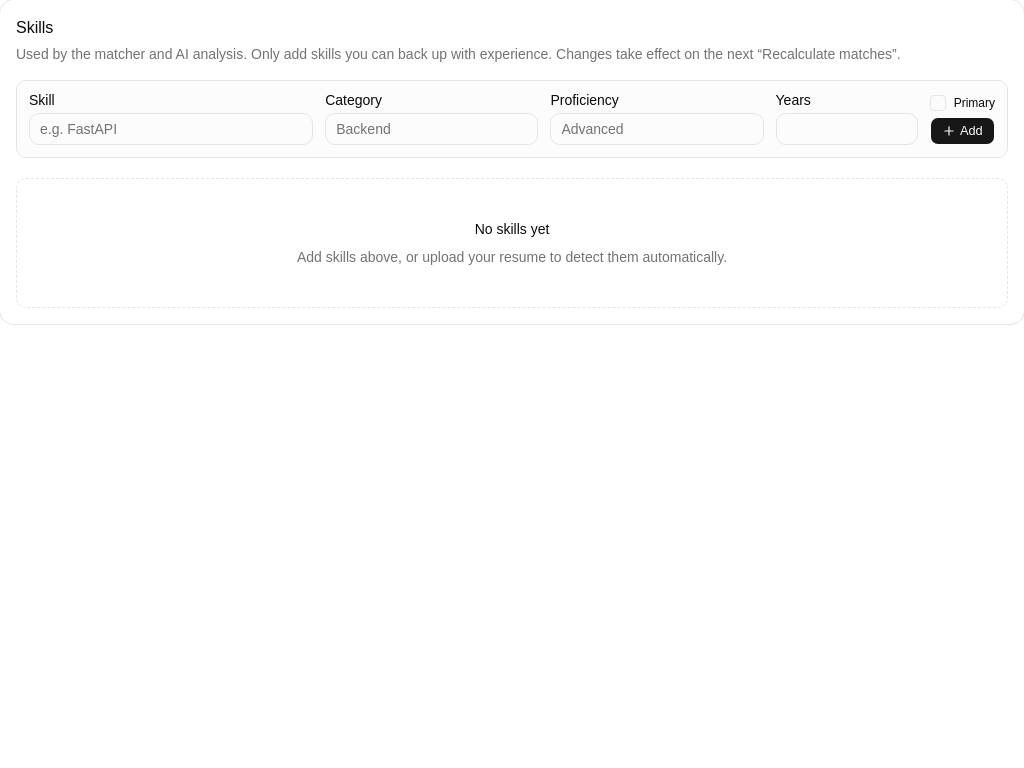
mutation failures › reports a failed skill creation and keeps the input
The width and height of the screenshot is (1024, 768).
Expected: the text "No skills yet" is shown, [475,219,549,239]
Type "Python" into the field labelled "Skill".
click(171, 129); type("Python")  # box [29,113,313,145]
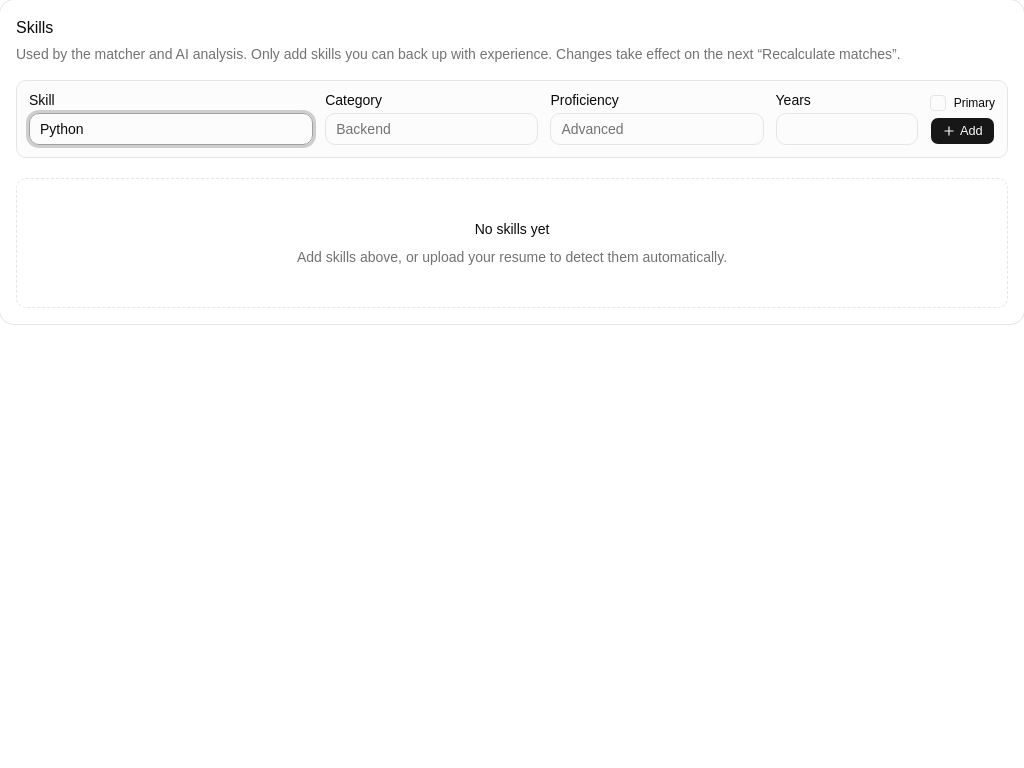
Click the button "Add".
click(962, 131)  # box [930,117,995,145]
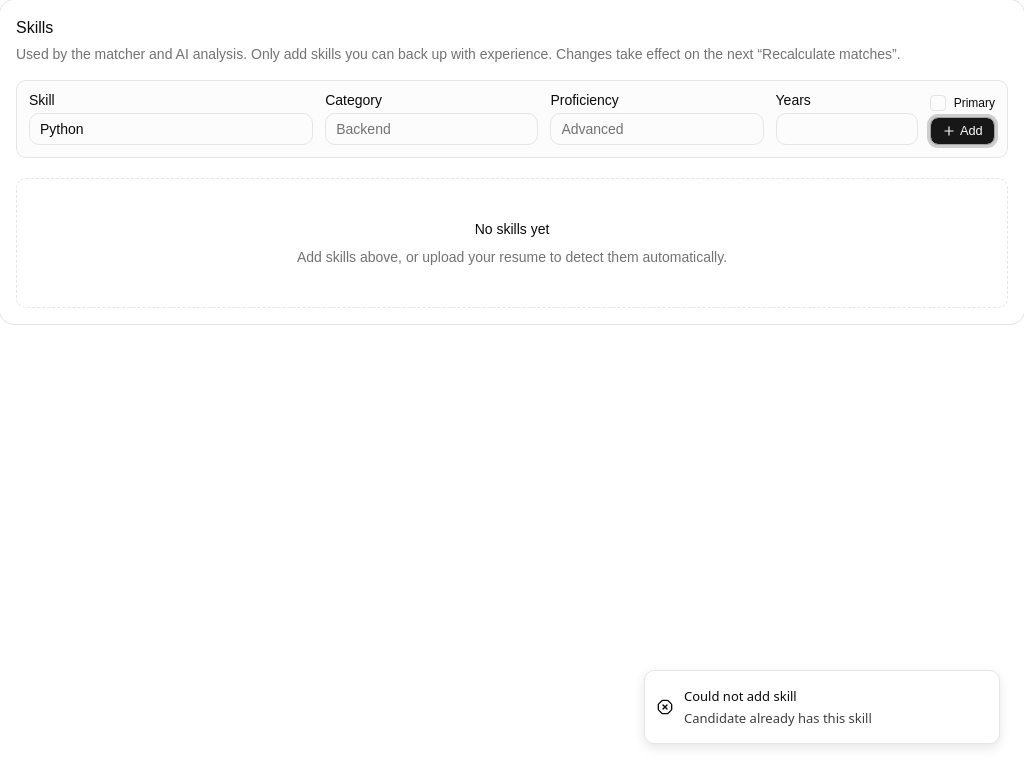
Now the text "Could not add skill" is shown, box [684,687,797,705]
Now the text "Candidate already has this skill" is shown, box [684,709,872,727]
